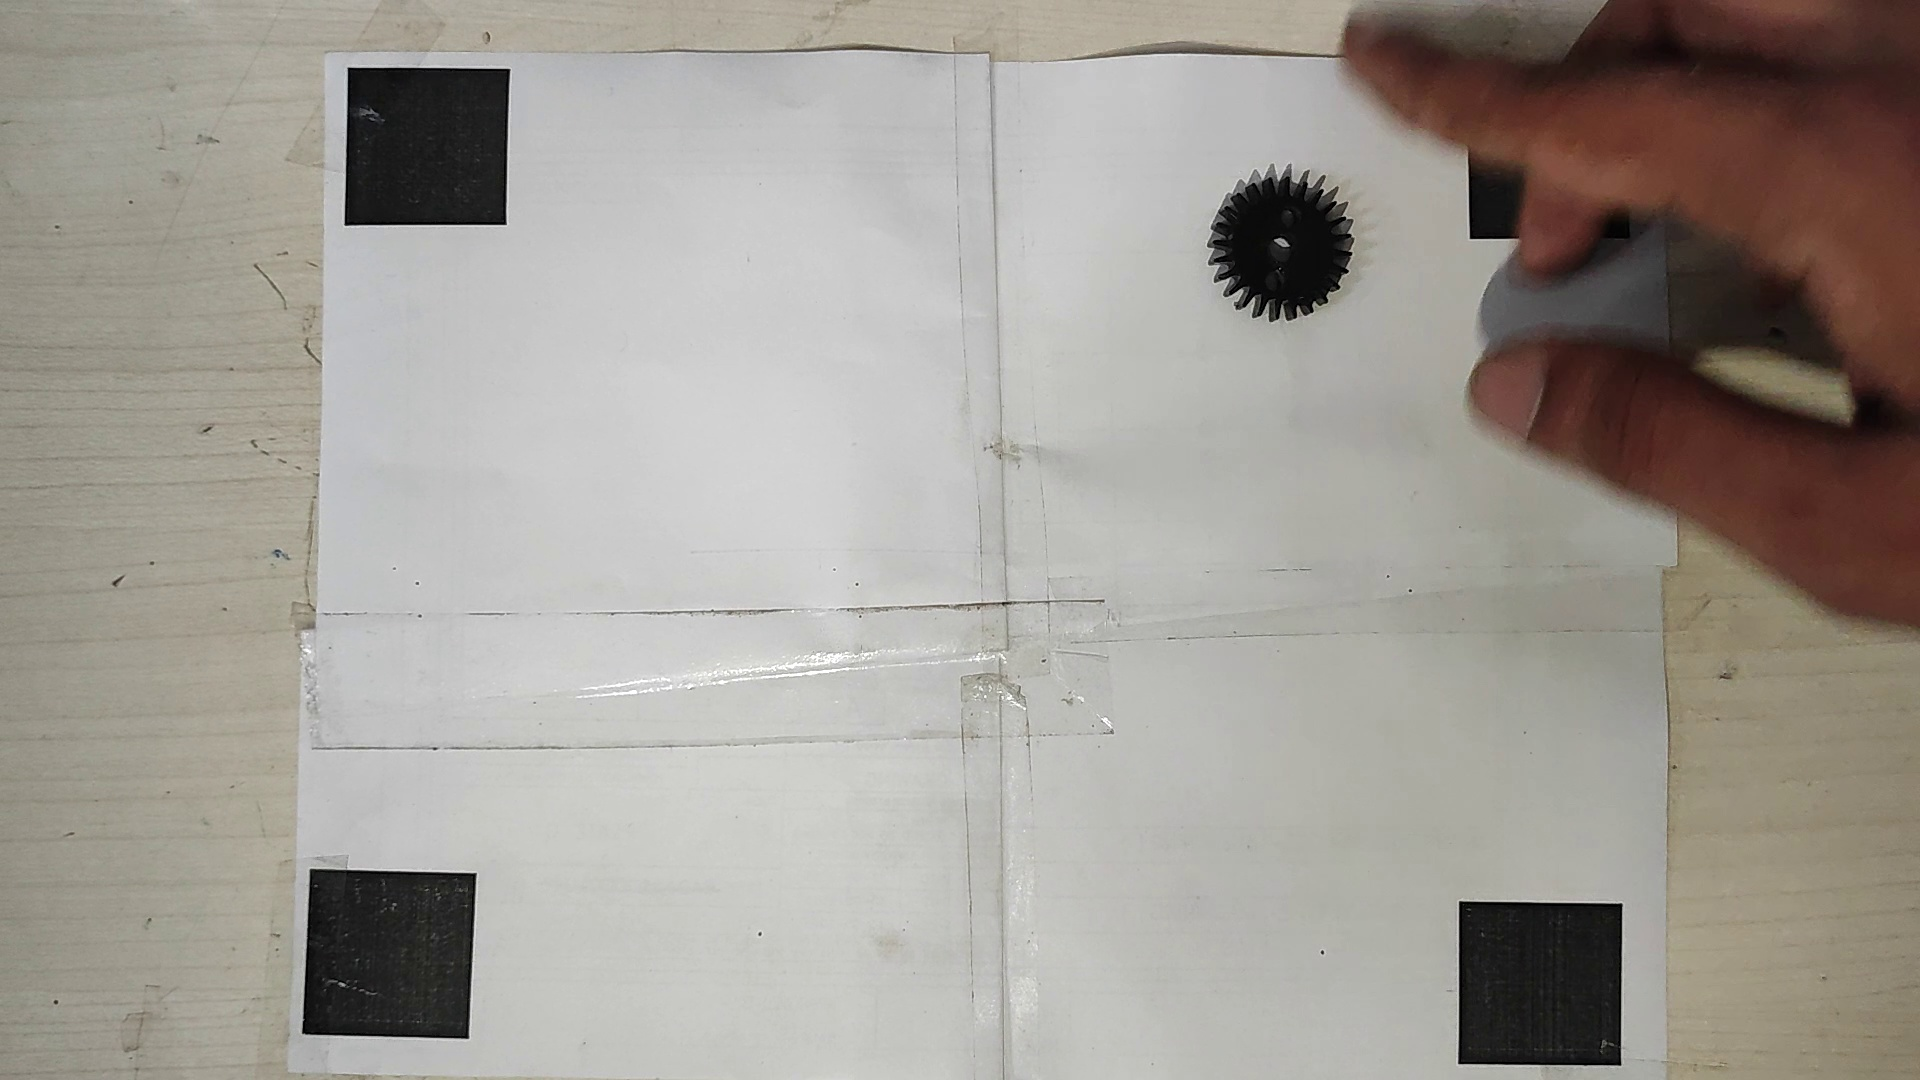Gear: (1204, 174, 1357, 324)
